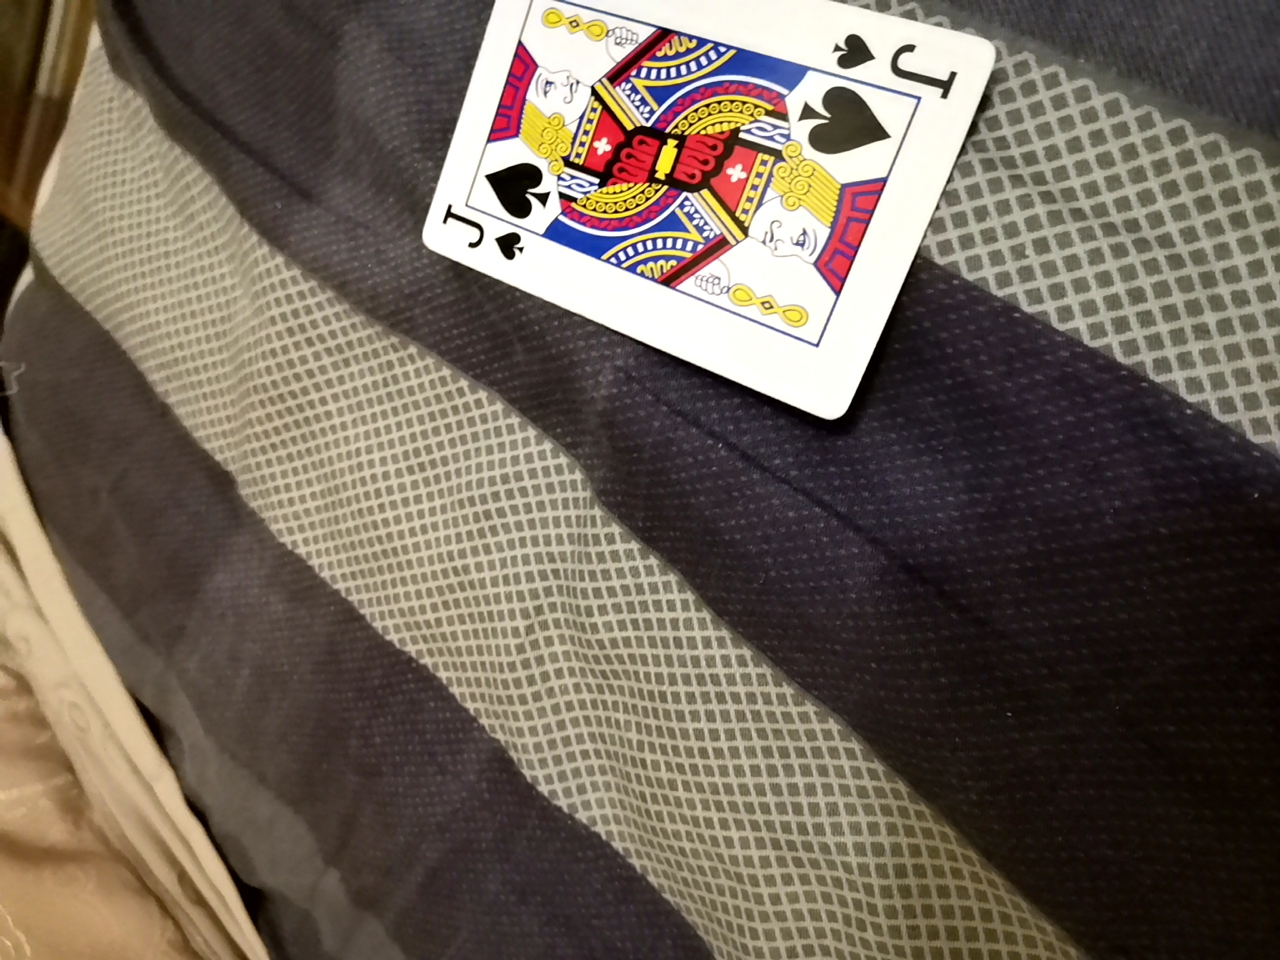ht j: (414, 0, 1000, 422)
